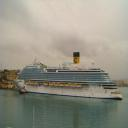cruises: (13, 52, 124, 103)
